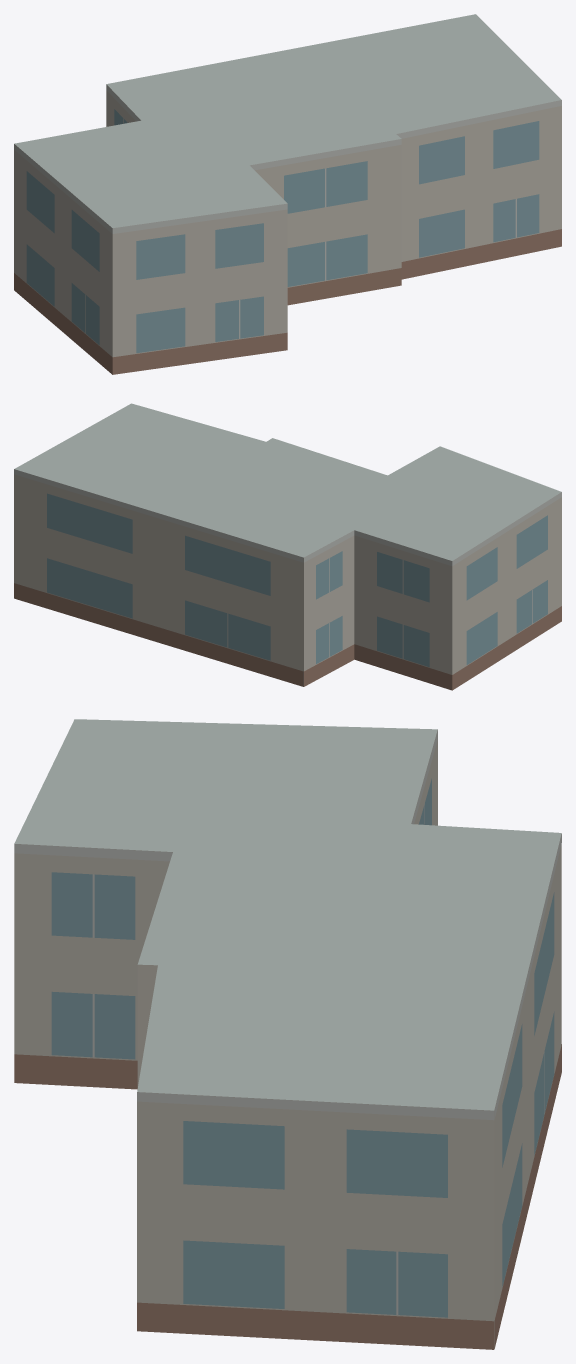
Rendered from survey-upis-32766912.glb.
The picture shows the model from 3 angles, top to bottom: view 1: azimuth 30°, elevation 25°; view 2: azimuth 150°, elevation 25°; view 3: azimuth 270°, elevation 25°; orthographic projection. The views are drawn at different scales.
Parts seen in each view (by area): view 1: survey-upis-32766912.tmp; view 2: survey-upis-32766912.tmp; view 3: survey-upis-32766912.tmp.
Boxes of the visible parts, x1,y1,x2,y2 form: survey-upis-32766912.tmp: [14, 14, 561, 374]; survey-upis-32766912.tmp: [14, 403, 561, 690]; survey-upis-32766912.tmp: [14, 719, 561, 1349].
Size of the model in its own units: 21.43 by 6.1 by 12.67.
